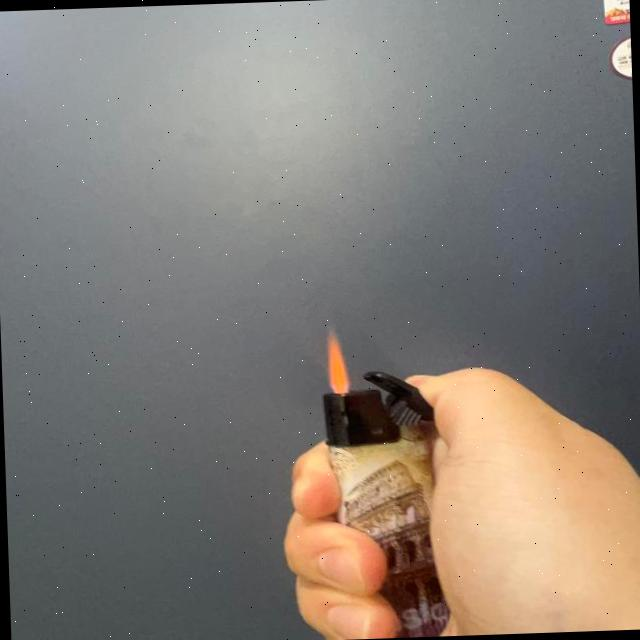fire: (324, 326, 354, 394)
